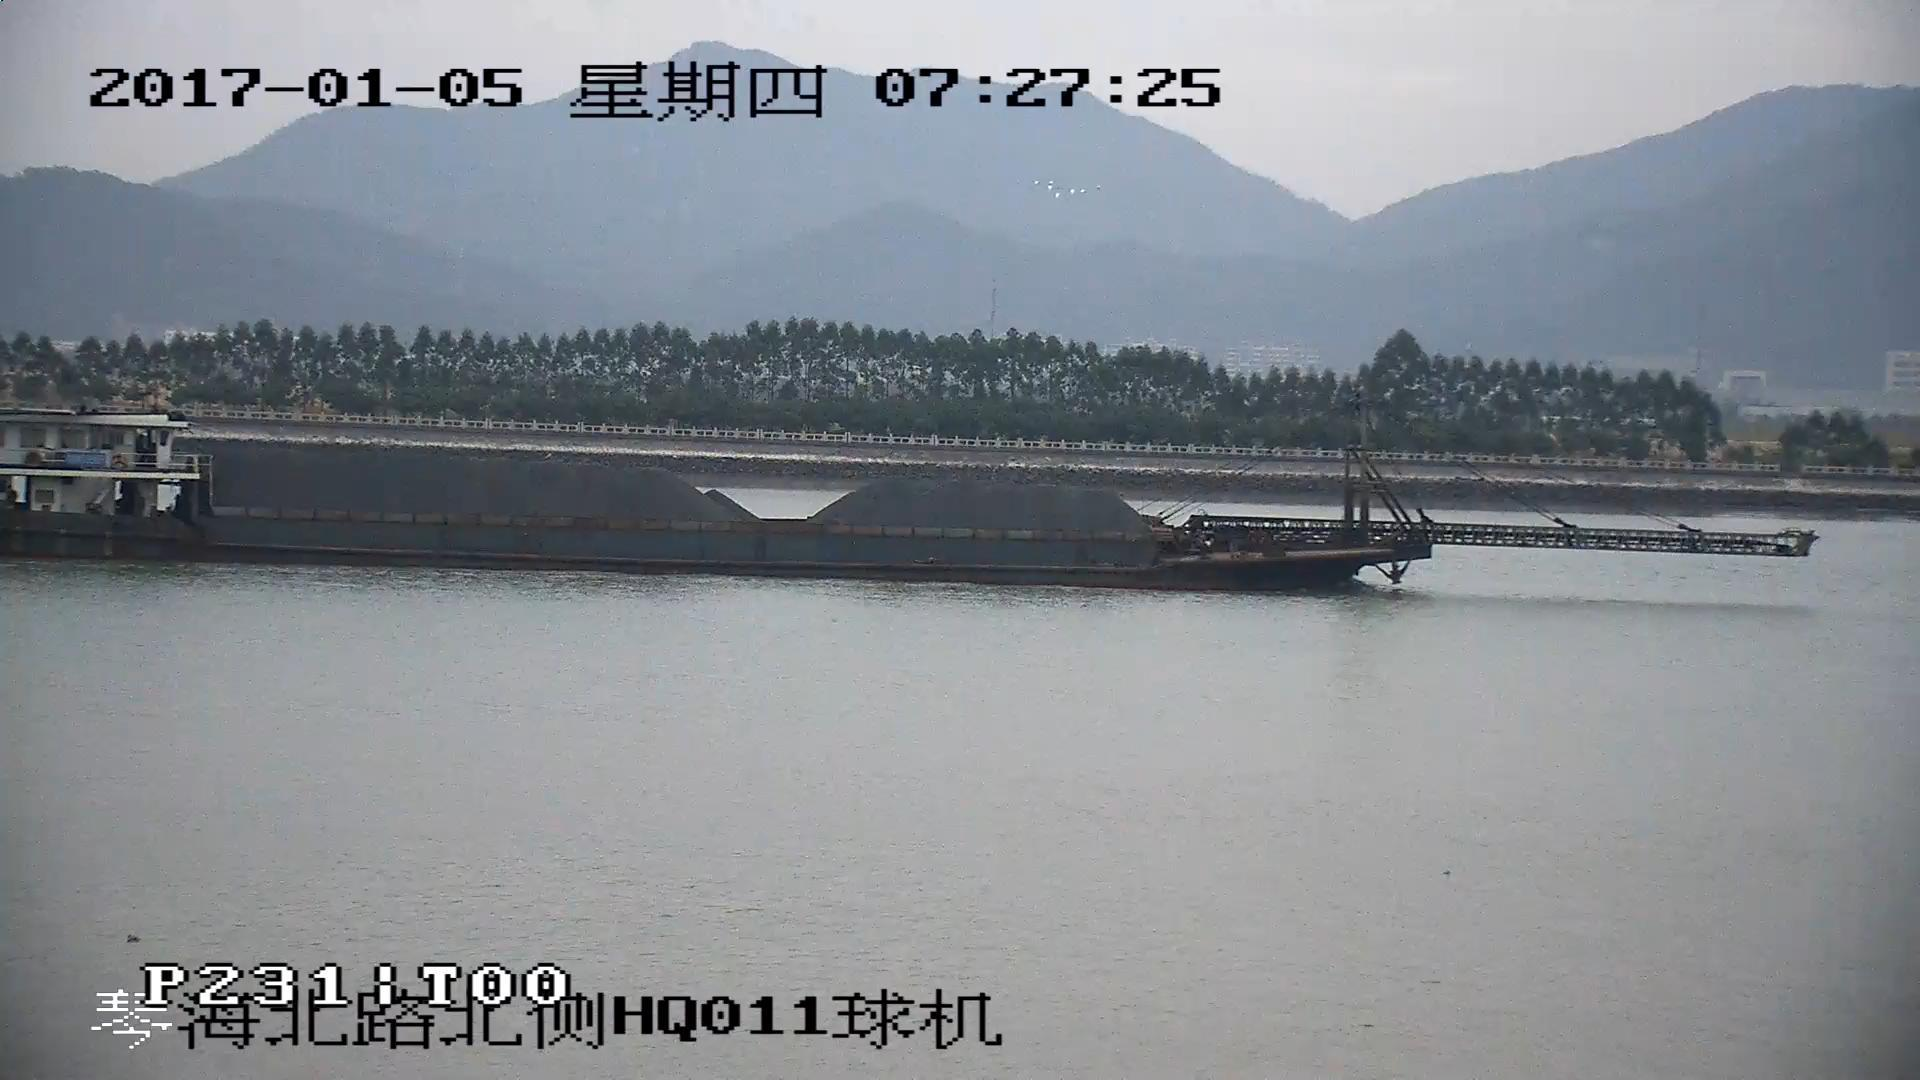Ship: (3, 413, 1809, 583)
